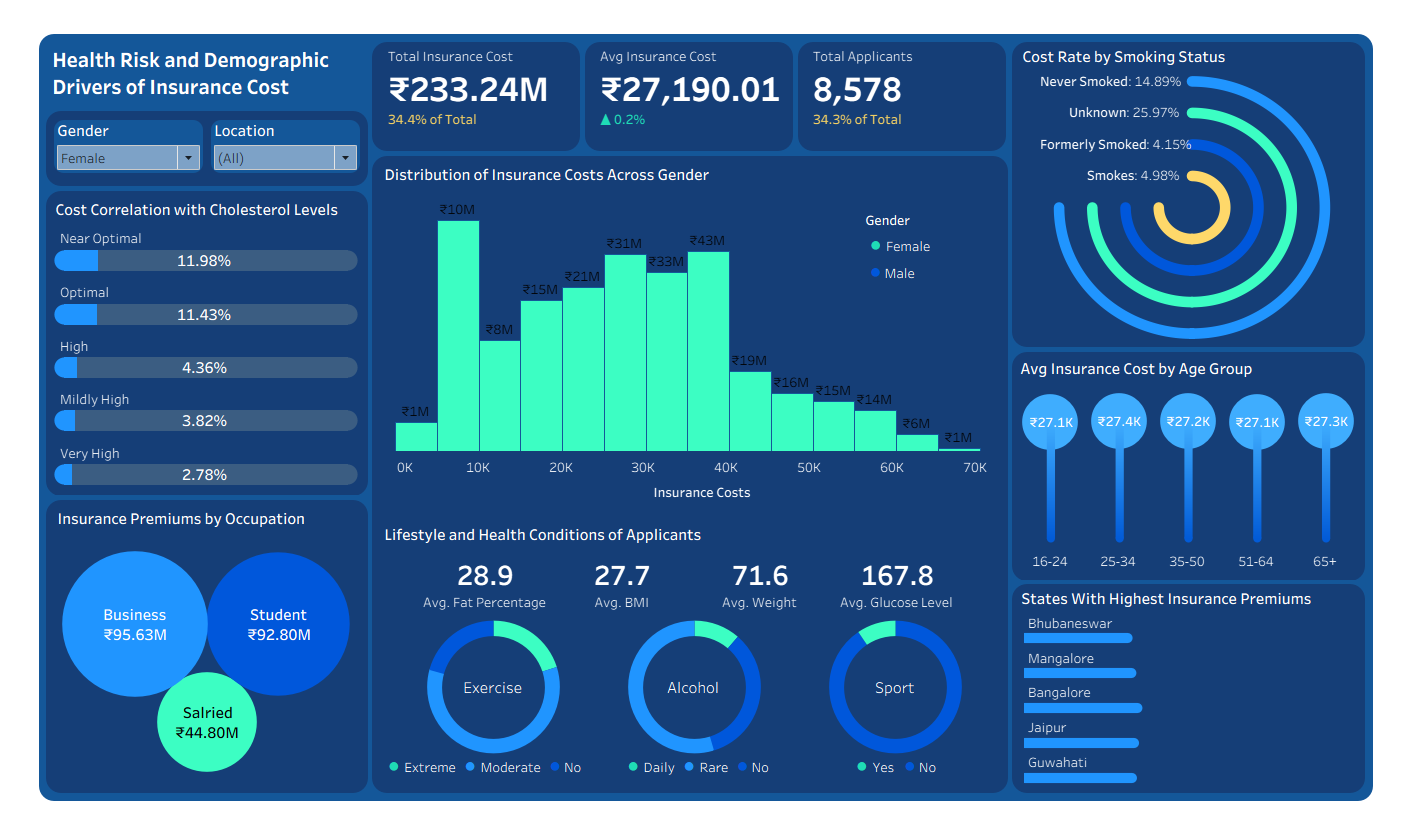

This screenshot's page, from the dashboard's own definition file:
{"tool":"tableau","page":{"name":"Overview","canvas":[1000,1000],"units":"permille","ordinal":0},"visuals":[{"type":"worksheet","title":"Total Insure","mark":"Automatic","box":[296.3,52.9,126.1,134]},{"type":"worksheet","title":"Avg Insure","mark":"Automatic","box":[424.9,52.9,126.1,134]},{"type":"worksheet","title":"Count of App.","mark":"Automatic","box":[554,52.9,126.1,134]},{"type":"blank","box":[89.9,56.4,808.7,902.5]},{"type":"text","box":[96,58.8,210.6,85.8]},{"type":"text","box":[683.8,62.3,188.9,41.1]},{"type":"blank","box":[291.5,65.8,126.1,128.1]},{"type":"blank","box":[420.6,65.8,126.1,128.1]},{"type":"blank","box":[549.8,65.8,126.1,128.1]},{"type":"blank","box":[679.5,65.8,214.2,358.4]},{"type":"worksheet","title":"Smoking Radial","mark":"Line","box":[696.4,90.5,183.5,338.4]},{"type":"blank","box":[94.2,146.9,194.9,88.1]},{"type":"filter","title":"Filters","param":"[federated.0mix84j1bg9yli1973xne18jgpg7].[none:Gender:nk]","box":[99,157.5,90.5,62.3]},{"type":"filter","title":"Filters","param":"[federated.0mix84j1bg9yli1973xne18jgpg7].[none:Location:nk]","box":[193.7,157.5,90.5,62.3]},{"type":"blank","box":[291.6,199.8,385.2,749.7]},{"type":"text","box":[296.9,200.9,214.8,41.1]},{"type":"worksheet","title":"Filters","mark":"Automatic","box":[284.9,216.2,333.1,332.6]},{"type":"worksheet","title":"Dist, Ins. by Gender","mark":"Bar","rows":["applicant_id"],"cols":["Insurance Cost (bin)"],"box":[305.4,240,372.1,374.1]},{"type":"blank","box":[94.2,240.9,194.9,358.4]},{"type":"text","box":[97.8,242.1,176.8,41.1]},{"type":"text","box":[588.7,260.9,59.6,94]},{"type":"worksheet","title":"Cholestrol Level Labels","mark":"Circle","rows":["cholesterol_level"],"box":[99,264.4,141.2,316.1]},{"type":"worksheet","title":"Cholestrol Level","mark":"Automatic","rows":["cholesterol_level"],"box":[90.5,291.4,201,313.8]},{"type":"text","box":[682.6,428.9,187.7,41.1]},{"type":"blank","box":[679.5,430.1,214.2,269.1]},{"type":"worksheet","title":"Age Dist.","mark":"Line","rows":["insurance_cost"],"box":[682,472.4,208.2,215]},{"type":"blank","box":[94.2,605.2,194.9,344.3]},{"type":"text","box":[99,606.4,172,41.1]},{"type":"text","box":[297,624.7,206.1,41.2]},{"type":"worksheet","title":"Medical Status","mark":"Automatic","box":[318.7,640.4,333.1,104.6]},{"type":"worksheet","title":"Occupation","mark":"Circle","box":[103,655.7,174.9,278.5]},{"type":"worksheet","title":"Medical Status Titles","mark":"Automatic","box":[318.2,687.1,332.7,70.6]},{"type":"text","box":[683,700,194.6,41.2]},{"type":"blank","box":[679.5,703.9,214.2,245.6]},{"type":"worksheet","title":"Exercise Chart","mark":"Pie","cols":["Calculation_1264201156042767","Calculation_1264201156079633"],"box":[304.2,722.7,121.9,204.5]},{"type":"worksheet","title":"Alcohol","mark":"Pie","cols":["Calculation_1264201156042767","Calculation_1264201156079633"],"box":[426.1,722.7,121.9,204.5]},{"type":"worksheet","title":"Sport","mark":"Pie","cols":["Calculation_1264201156042767","Calculation_1264201156079633"],"box":[548,722.7,121.9,204.5]},{"type":"worksheet","title":"Location Labels","mark":"Circle","rows":["Location (copy)_1246884514562048"],"box":[685.6,728.6,144.8,204.5]},{"type":"worksheet","title":"Location","mark":"Line","rows":["Location (copy)_1246884514562048"],"box":[686.8,746.2,204.6,205.6]},{"type":"text","box":[294.7,895.4,130.3,41.1]},{"type":"text","box":[436.7,895.4,104.2,41.1]},{"type":"text","box":[574.5,895.4,68.8,41.1]}]}

Visuals, with their boxes on the dashboard's canvas, which has no fixed pixel size, in thousandths of its width and height (x1, y1, x2, y2). These are canvas units, not pixel positions in the 1410x835 screenshot, which may show the page scaled, cropped or inside an application window:
"Total Insure" worksheet: 296/53/422/187
"Avg Insure" worksheet: 425/53/551/187
"Count of App." worksheet: 554/53/680/187
blank: 90/56/899/959
text: 96/59/307/145
text: 684/62/873/103
blank: 292/66/418/194
blank: 421/66/547/194
blank: 550/66/676/194
blank: 680/66/894/424
"Smoking Radial" worksheet (Line marks): 696/90/880/429
blank: 94/147/289/235
"Filters" filter: 99/158/190/220
"Filters" filter: 194/158/284/220
blank: 292/200/677/950
text: 297/201/512/242
"Filters" worksheet: 285/216/618/549
"Dist, Ins. by Gender" worksheet (Bar marks): 305/240/678/614
blank: 94/241/289/599
text: 98/242/275/283
text: 589/261/648/355
"Cholestrol Level Labels" worksheet (Circle marks): 99/264/240/580
"Cholestrol Level" worksheet: 90/291/292/605
text: 683/429/870/470
blank: 680/430/894/699
"Age Dist." worksheet (Line marks): 682/472/890/687
blank: 94/605/289/950
text: 99/606/271/648
text: 297/625/503/666
"Medical Status" worksheet: 319/640/652/745
"Occupation" worksheet (Circle marks): 103/656/278/934
"Medical Status Titles" worksheet: 318/687/651/758
text: 683/700/878/741
blank: 680/704/894/950
"Exercise Chart" worksheet (Pie marks): 304/723/426/927
"Alcohol" worksheet (Pie marks): 426/723/548/927
"Sport" worksheet (Pie marks): 548/723/670/927
"Location Labels" worksheet (Circle marks): 686/729/830/933
"Location" worksheet (Line marks): 687/746/891/952
text: 295/895/425/936
text: 437/895/541/936
text: 574/895/643/936
